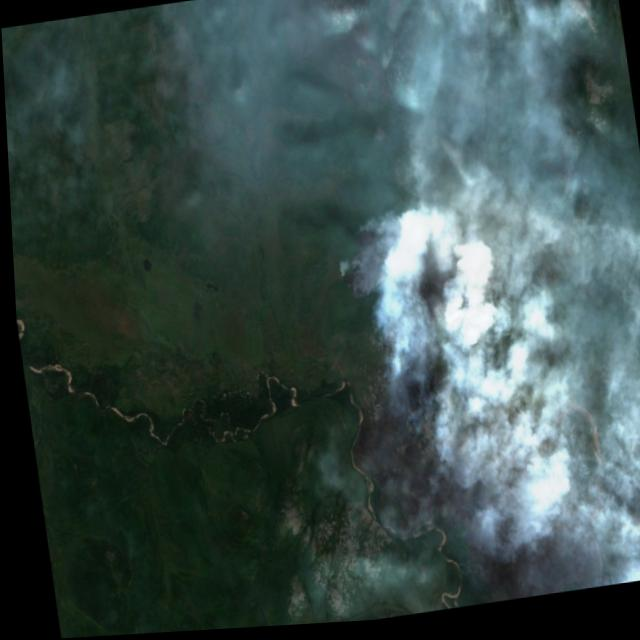fire: (321, 193, 494, 362), (404, 379, 449, 437)
